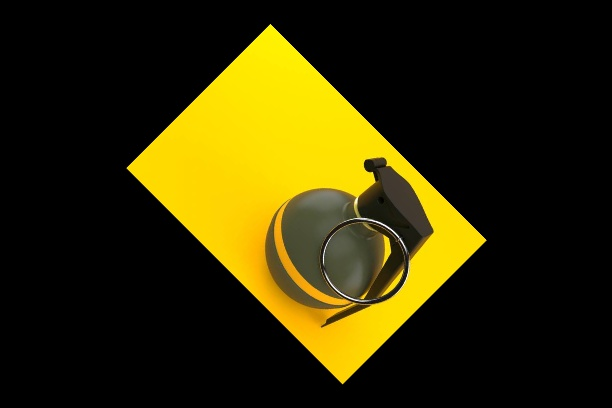e1: (261, 155, 435, 331)
